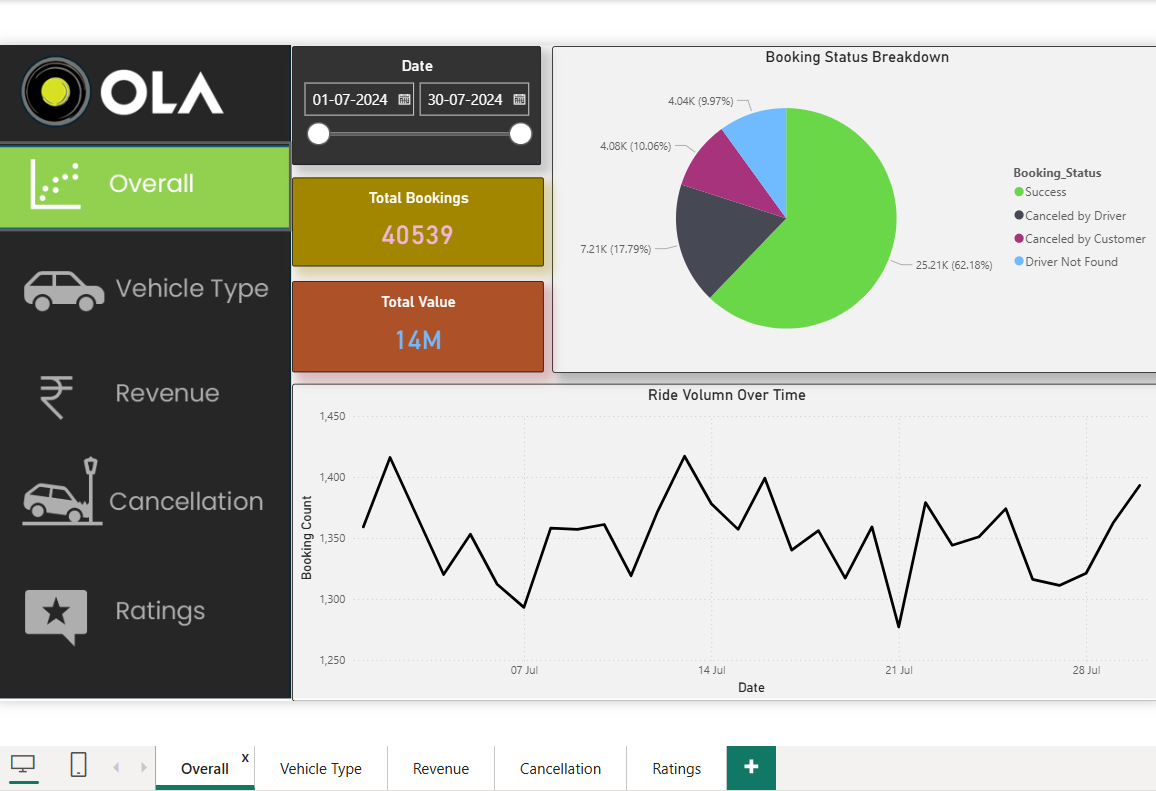

The page's visual inventory and layout, read from the dashboard file:
{"tool":"powerbi","page":{"name":"Overall","canvas":[1280,720],"ordinal":0},"visuals":[{"type":"actionButton","box":[0,224.4,324.5,90.5],"z":0},{"type":"actionButton","box":[0,345,324.5,85.7],"z":1000},{"type":"actionButton","box":[0,442.8,324.5,114.6],"z":2000},{"type":"actionButton","box":[1.2,577.9,324.5,101.3],"z":3000},{"type":"actionButton","box":[0,106.2,324.5,98.9],"z":4000},{"type":"lineChart","title":"Ride Volumn Over Time","fields":{"Y":["CountNonNull(July.Booking_ID)"],"Category":["July.Date"]},"box":[325.7,371.6,953.1,348.7],"z":5000},{"type":"pieChart","title":"Booking Status Breakdown","fields":{"Y":["CountNonNull(July.Booking_Status)"],"Category":["July.Booking_Status"]},"box":[610.5,1.2,668.4,358.3],"z":6000},{"type":"slicer","title":"Date","fields":{"Values":["July.Date"]},"box":[325.2,1.4,273.1,130.4],"z":7000},{"type":"card","title":"Total Bookings","fields":{"Values":["Count(July.Booking_ID)"]},"box":[325.2,145.5,275.8,97.4],"z":8000},{"type":"card","title":"Total Value","fields":{"Values":["Sum(July.Booking_Value)"]},"box":[325.2,259.3,275.8,100.2],"z":9000}]}

Visuals, with their boxes in screenshot pixels (x1, y1, x2, y2):
actionButton: (x1=0, y1=249, x2=288, y2=333)
actionButton: (x1=0, y1=361, x2=288, y2=440)
actionButton: (x1=0, y1=451, x2=288, y2=557)
actionButton: (x1=0, y1=576, x2=289, y2=669)
actionButton: (x1=0, y1=140, x2=288, y2=232)
"Ride Volumn Over Time" lineChart: (x1=289, y1=385, x2=1155, y2=707)
"Booking Status Breakdown" pieChart: (x1=552, y1=43, x2=1155, y2=374)
"Date" slicer: (x1=288, y1=43, x2=540, y2=164)
"Total Bookings" card: (x1=288, y1=177, x2=543, y2=266)
"Total Value" card: (x1=288, y1=282, x2=543, y2=374)
